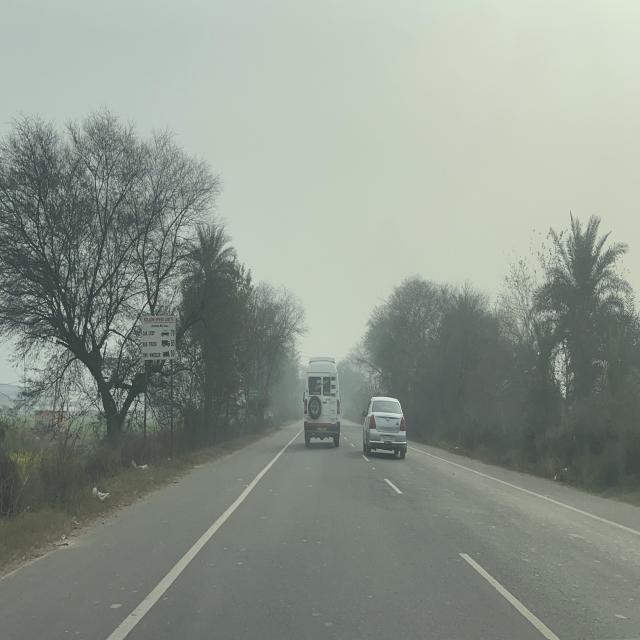GENERAL: (244, 386, 260, 400)
